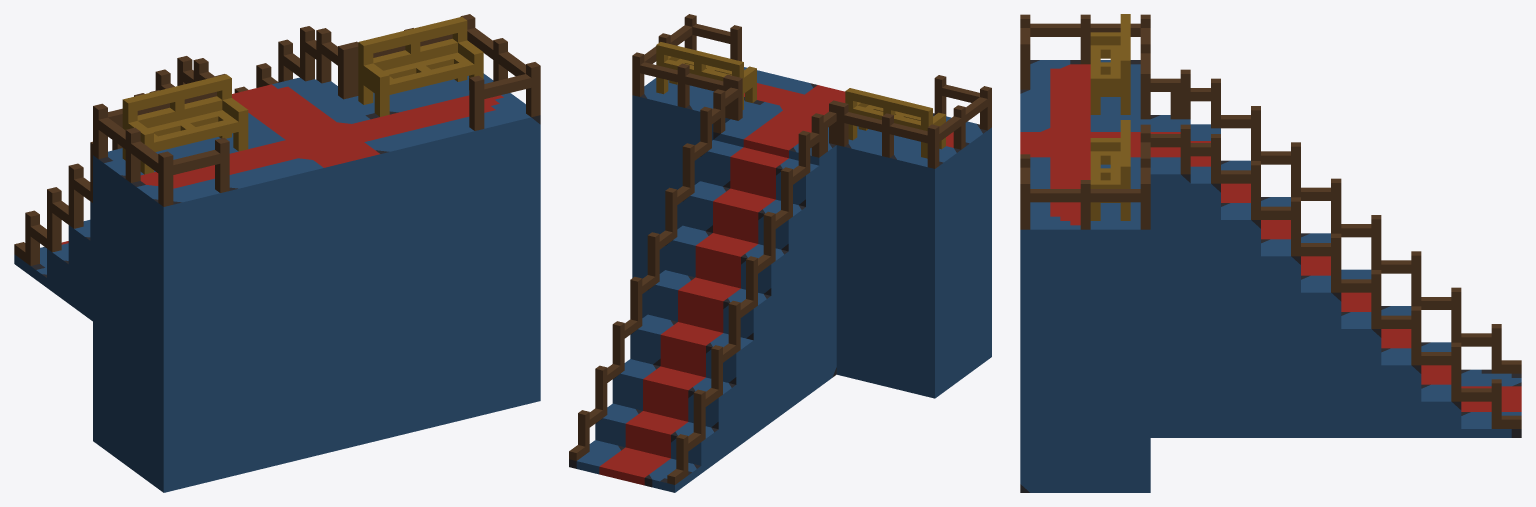
The model's file is trainPlatform.fbx.
The picture shows the model from 3 angles, left to right: view 1: azimuth 30°, elevation 25°; view 2: azimuth 150°, elevation 25°; view 3: azimuth 270°, elevation 25°; orthographic projection. The views are drawn at different scales.
Visible parts, largest first — view 1: ObjObject; view 2: ObjObject; view 3: ObjObject.
Part boxes in pixels (box(x1,y1,x2,y2)): ObjObject: box(14, 14, 540, 492); ObjObject: box(569, 14, 991, 492); ObjObject: box(1020, 14, 1521, 492).
Bounding box in the file's own units: 400 × 350 × 500.
